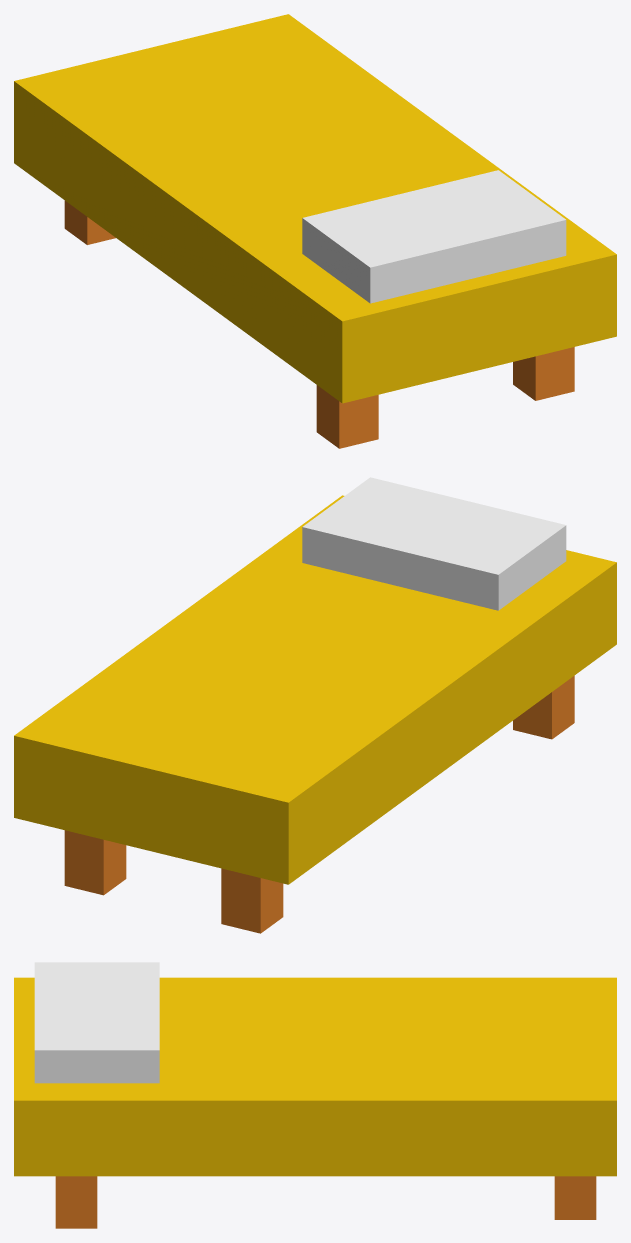
Rendered from bed.obj.
The picture shows the model from 3 angles, top to bottom: view 1: azimuth 30°, elevation 25°; view 2: azimuth 150°, elevation 25°; view 3: azimuth 270°, elevation 25°; orthographic projection. The views are drawn at different scales.
Parts seen in each view (by area): view 1: cuboid; view 2: cuboid; view 3: cuboid.
Boxes of the visible parts, bbox=[...] form: cuboid: bbox=[14, 14, 616, 448]; cuboid: bbox=[14, 477, 616, 933]; cuboid: bbox=[14, 962, 616, 1228].
Bounding box in the file's own units: 0.875 × 0.5625 × 1.81.
Materials: 1 (1 with a texture image).
